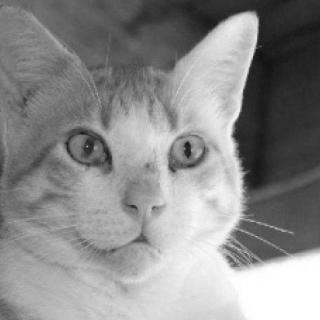cat: (0, 0, 260, 286)
nose: (120, 176, 170, 225)
